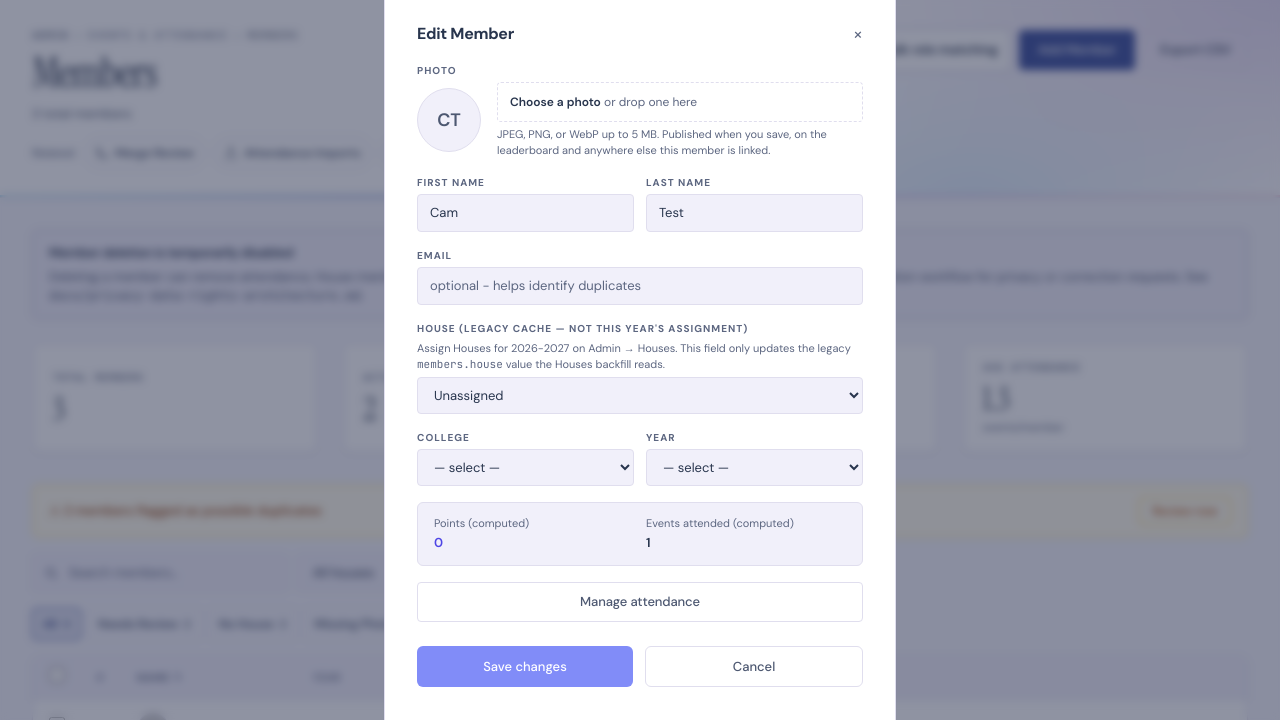
Test: discarding unsaved edits › asks in a dialog that names what is lost, and Keep editing leaves the edit untouched
The image size is (1280, 720).
Expected: the heading "Edit Member" is shown, [417, 25, 514, 43]
Replace the text in the field showing "Cam" below "First name" with "Cameron" at {"x": 526, "y": 213}, box [417, 194, 634, 232]
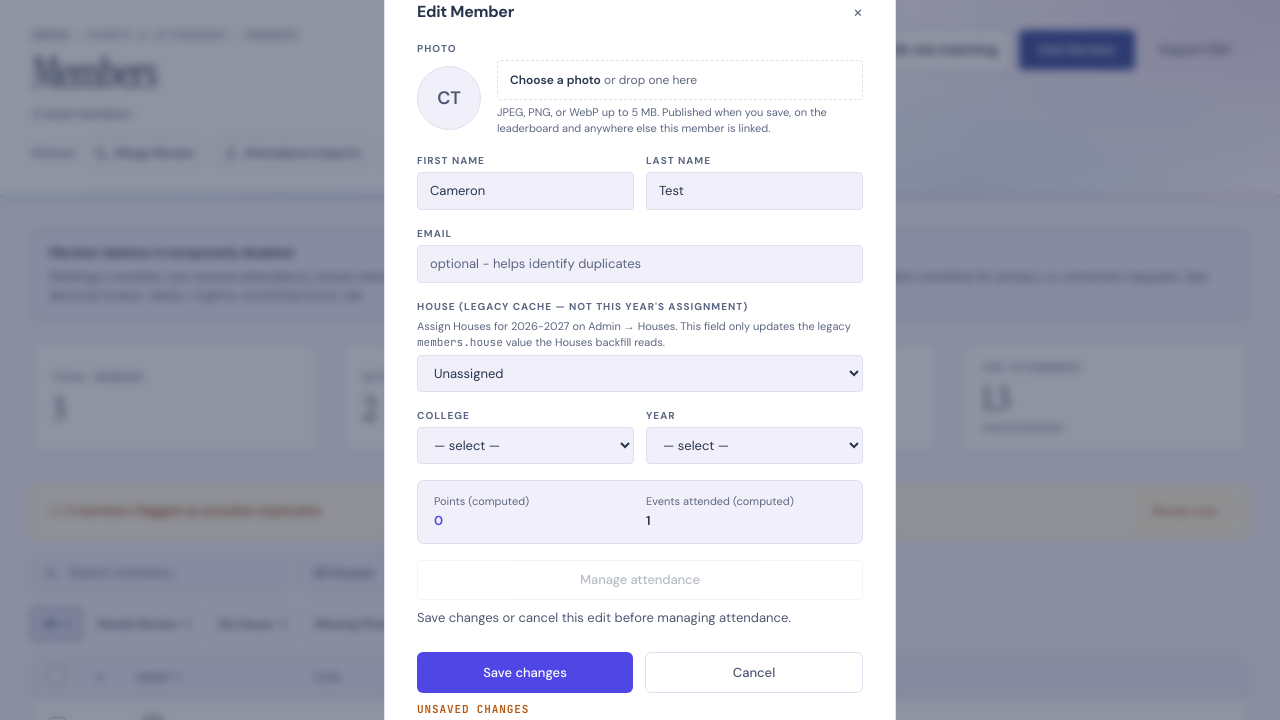
Click the button "Cancel" at {"x": 754, "y": 672}, box [645, 652, 863, 693]
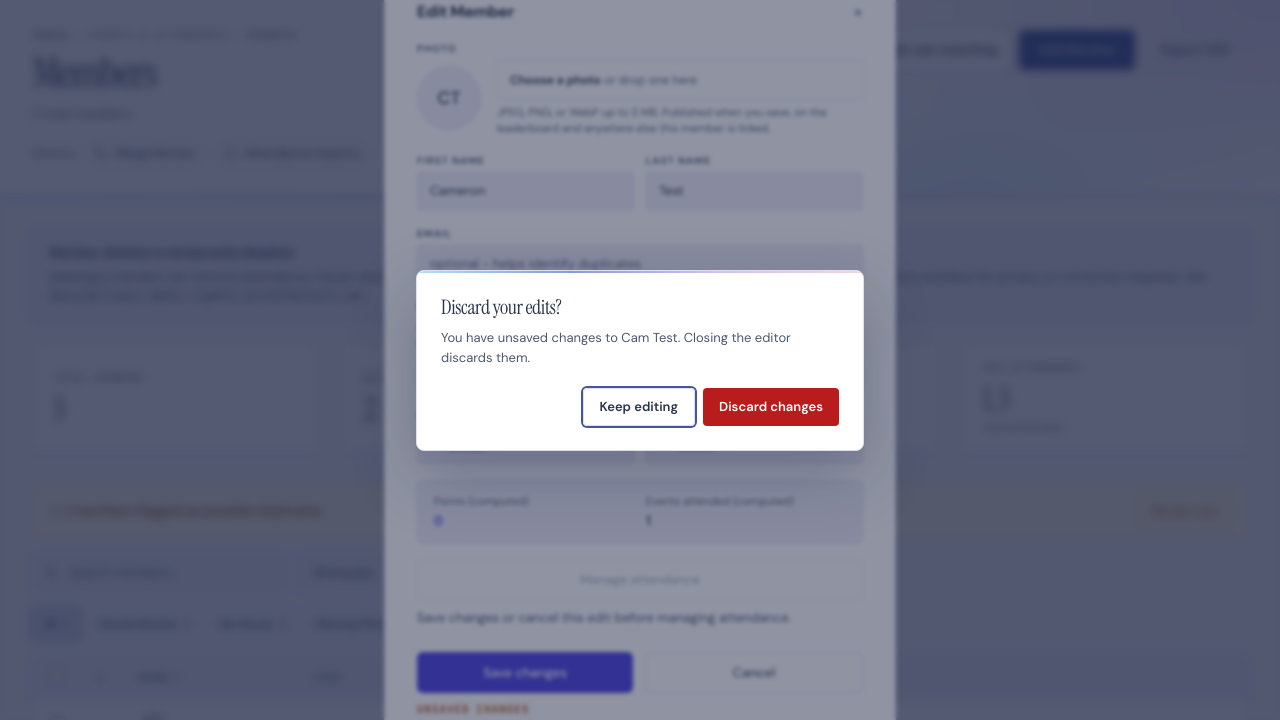
Expected: the text "unsaved changes to Cam Test" is shown, [441, 328, 791, 366]
Click the button "Keep editing" at {"x": 639, "y": 406}, box [582, 388, 695, 426]
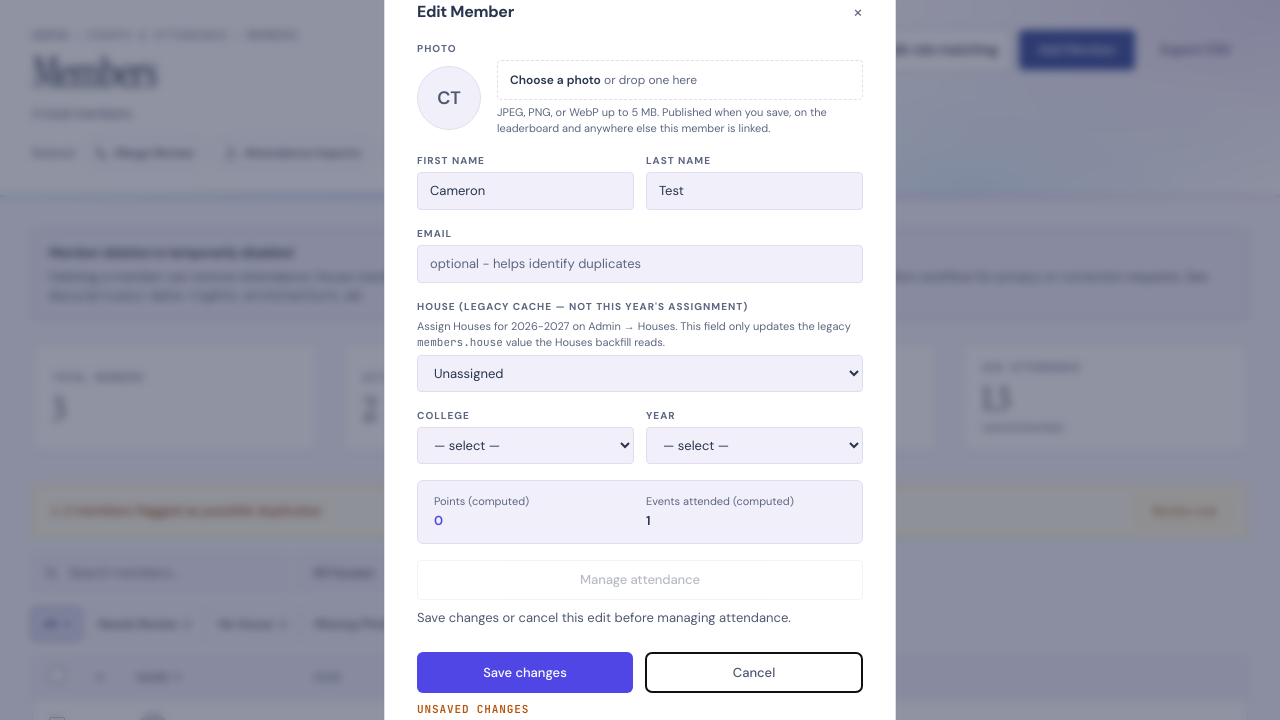
Expected: the heading "Edit Member" is shown, [417, 3, 514, 20]
Expected: the dialog is gone
